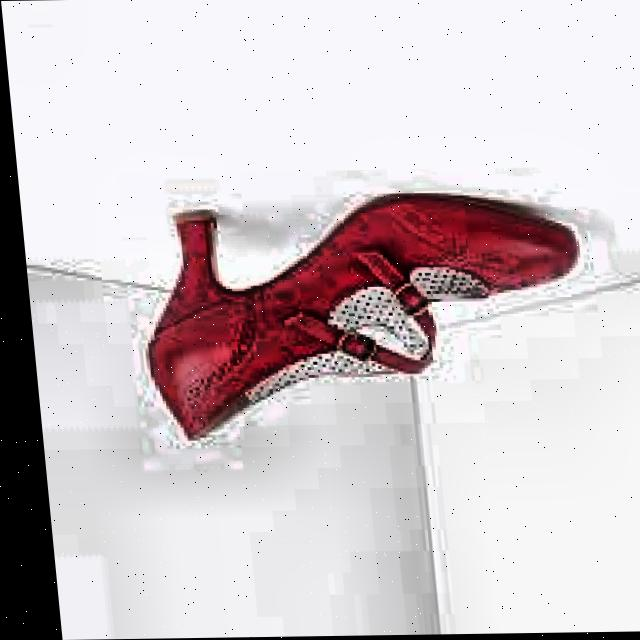shoes: (118, 185, 601, 450)
